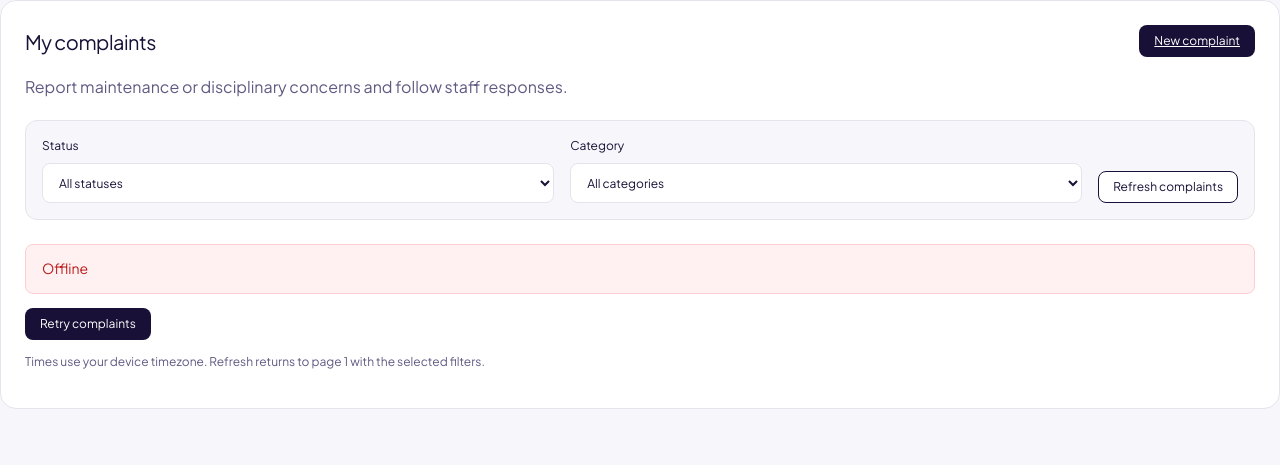
Test: shows empty results and retries failed lists
Check: the message reads "Offline", box [42, 259, 88, 277]
Click the button "Retry complaints": [88, 324] box [25, 308, 151, 340]
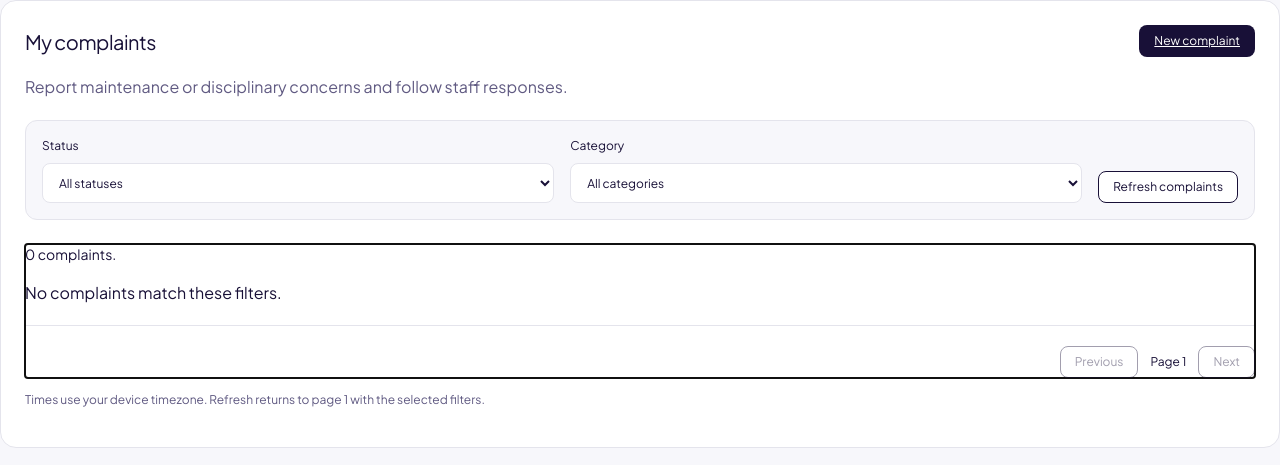
Check: the text "No complaints match these filters." is shown, box [25, 282, 282, 303]
